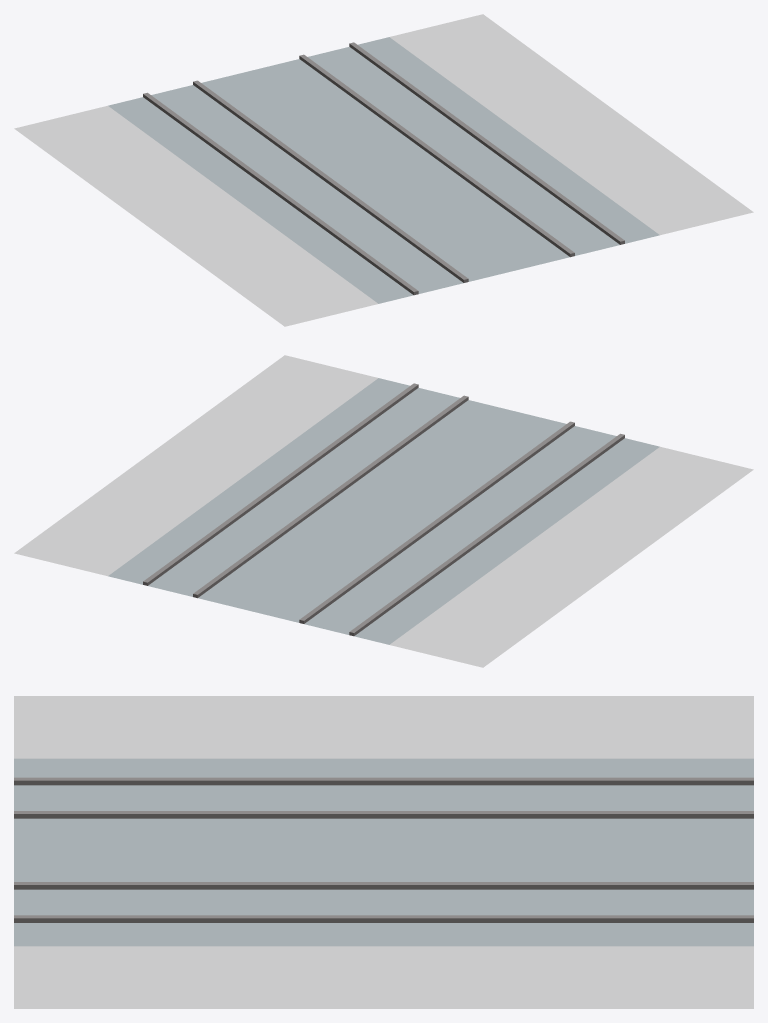
The model's file is tram_railway_001.glb.
3 renders of one model, top to bottom at view 1: azimuth 30°, elevation 25°; view 2: azimuth 150°, elevation 25°; view 3: azimuth 270°, elevation 25°, orthographic. The views are drawn at different scales.
Parts seen in each view (by area): view 1: tram_railway_001; view 2: tram_railway_001; view 3: tram_railway_001.
Boxes of the visible parts, bbox=[...] form: tram_railway_001: bbox=[14, 14, 753, 326]; tram_railway_001: bbox=[14, 355, 753, 667]; tram_railway_001: bbox=[14, 696, 753, 1008].
Size of the model in its own units: 15 by 0.1 by 15.
1 material, 1 textured.
